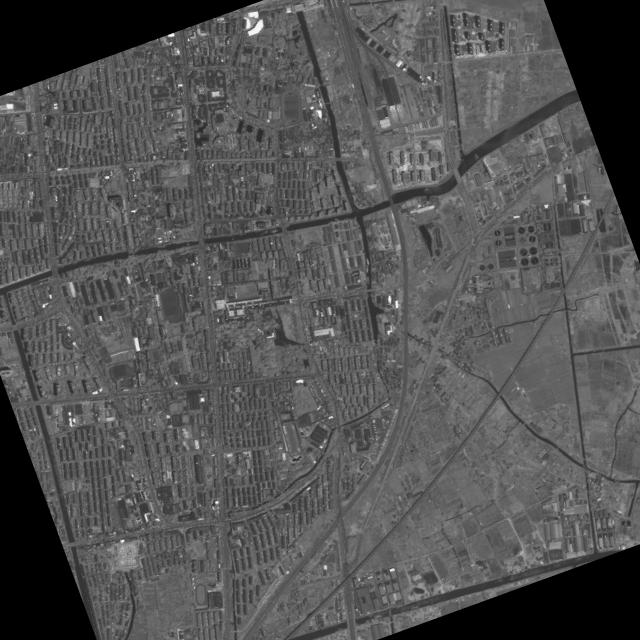ship: (365, 618, 374, 623), (369, 613, 377, 618), (365, 257, 369, 266), (374, 614, 383, 618), (374, 616, 381, 620), (365, 265, 368, 274), (367, 277, 369, 285), (365, 277, 367, 283)
storage-tank: (552, 257, 558, 262), (555, 274, 560, 279), (554, 271, 559, 276), (553, 261, 558, 266), (544, 258, 549, 263), (549, 262, 554, 266), (548, 258, 553, 262), (545, 263, 549, 267)
